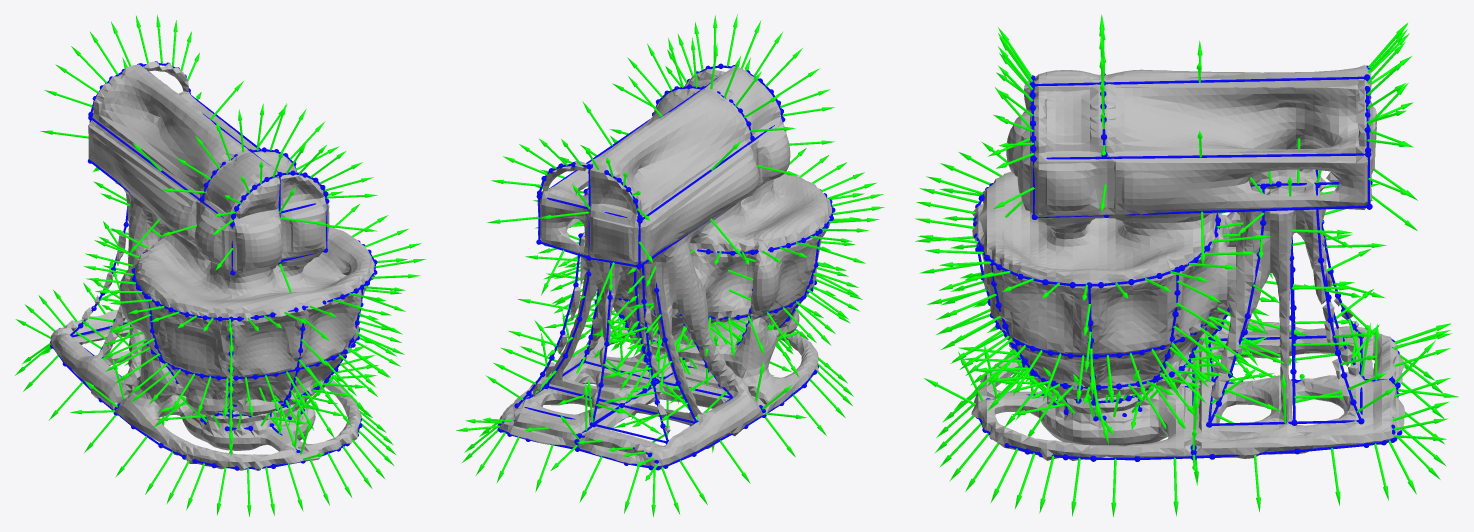
The model's file is t2f_blender.gltf.
The picture shows the model from 3 angles, left to right: view 1: azimuth 30°, elevation 25°; view 2: azimuth 150°, elevation 25°; view 3: azimuth 270°, elevation 25°; orthographic projection. The views are drawn at different scales.
Size of the model in its own units: 0.6599 by 0.7512 by 0.8629.
